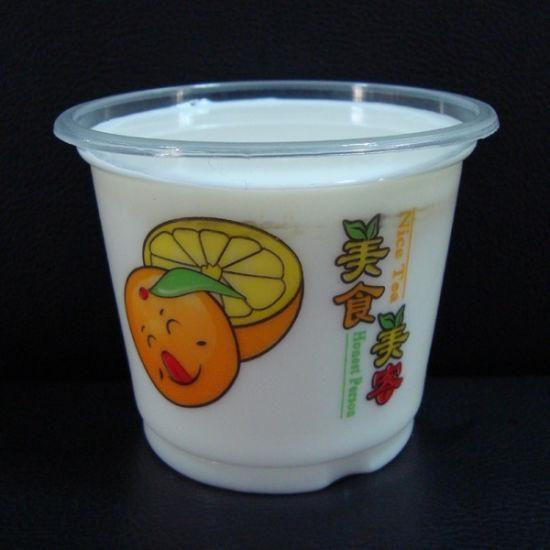cup-disposable: (49, 73, 503, 501)
